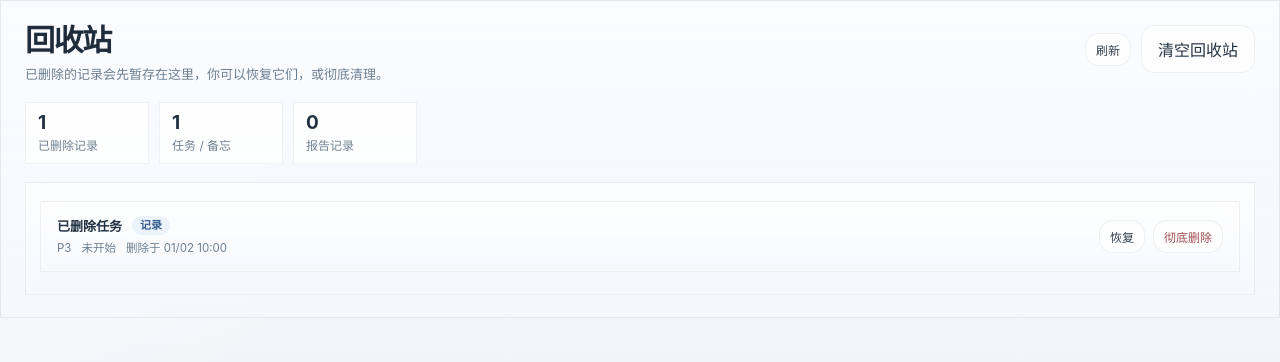
TrashPage › empties trash directly
expect the text "已删除任务" is shown: met, box [57,216,122,235]
Click the button "清空回收站" at (1198, 49), box [1141,25,1255,73]
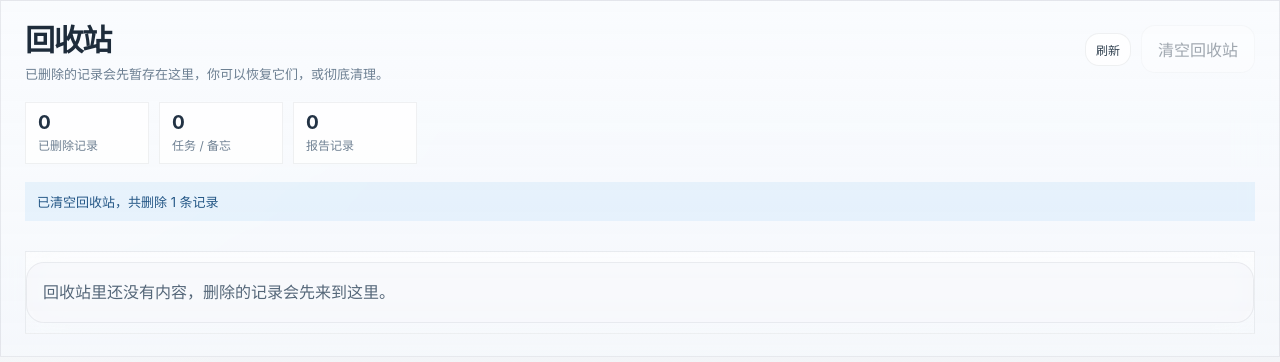
expect the text "已清空回收站，共删除 1 条记录" is shown: met, box [25,182,1255,221]
